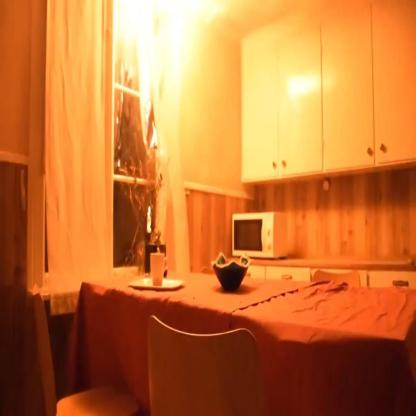fire: (114, 2, 231, 124), (146, 203, 152, 214)
